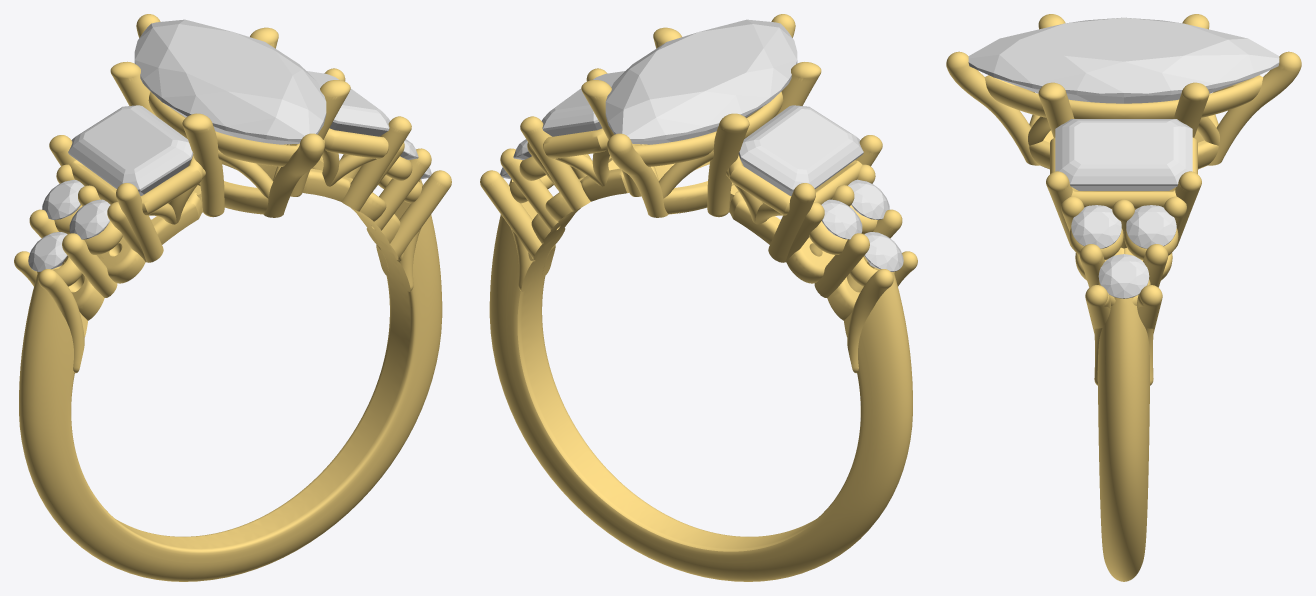
File: JackV4addedVs_blender.glb
The picture shows the model from 3 angles, left to right: view 1: azimuth 30°, elevation 25°; view 2: azimuth 150°, elevation 25°; view 3: azimuth 270°, elevation 25°; orthographic projection.
Visible parts, largest first — view 1: V4 Jack YG for 3d model, Jack dia center for 3d model, Jack dia em for 3d model.001, Jack dia em for 3d model, Jack dia rounds for 3d model.005, Jack dia rounds for 3d model.003, Jack dia rounds for 3d model.004; view 2: V4 Jack YG for 3d model, Jack dia center for 3d model, Jack dia em for 3d model.001, Jack dia em for 3d model, Jack dia rounds for 3d model.003, Jack dia rounds for 3d model.005, Jack dia rounds for 3d model.004; view 3: V4 Jack YG for 3d model, Jack dia center for 3d model, Jack dia em for 3d model, Jack dia rounds for 3d model.001, Jack dia rounds for 3d model, Jack dia rounds for 3d model.002.
Part boxes in pixels (x1=…): V4 Jack YG for 3d model: x1=14, y1=14, x2=451, y2=581; Jack dia center for 3d model: x1=134, y1=19, x2=326, y2=144; Jack dia em for 3d model.001: x1=68, y1=105, x2=193, y2=195; Jack dia em for 3d model: x1=307, y1=71, x2=389, y2=136; Jack dia rounds for 3d model.005: x1=69, y1=199, x2=110, y2=239; Jack dia rounds for 3d model.003: x1=42, y1=179, x2=84, y2=219; Jack dia rounds for 3d model.004: x1=28, y1=232, x2=67, y2=271; V4 Jack YG for 3d model: x1=480, y1=14, x2=917, y2=581; Jack dia center for 3d model: x1=605, y1=19, x2=797, y2=144; Jack dia em for 3d model.001: x1=738, y1=105, x2=863, y2=195; Jack dia em for 3d model: x1=542, y1=71, x2=624, y2=136; Jack dia rounds for 3d model.003: x1=821, y1=199, x2=862, y2=239; Jack dia rounds for 3d model.005: x1=848, y1=179, x2=889, y2=219; Jack dia rounds for 3d model.004: x1=864, y1=232, x2=903, y2=271; V4 Jack YG for 3d model: x1=946, y1=14, x2=1301, y2=581; Jack dia center for 3d model: x1=968, y1=17, x2=1279, y2=103; Jack dia em for 3d model: x1=1055, y1=119, x2=1192, y2=190; Jack dia rounds for 3d model.001: x1=1098, y1=254, x2=1149, y2=298; Jack dia rounds for 3d model: x1=1126, y1=205, x2=1176, y2=248; Jack dia rounds for 3d model.002: x1=1071, y1=205, x2=1121, y2=248.
Size of the model in its own units: 21.34 by 24.98 by 15.51.
